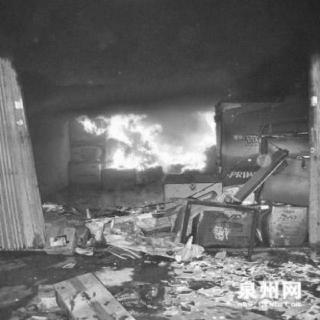Fire: (65, 110, 217, 172)
